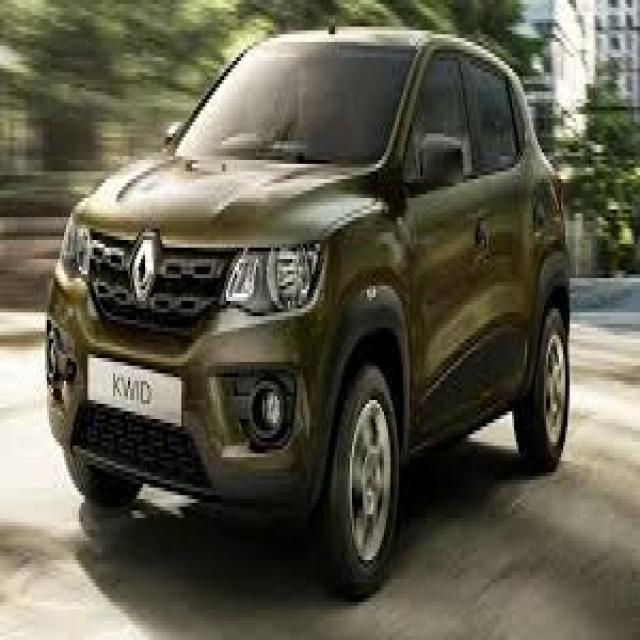car: (32, 11, 600, 612)
